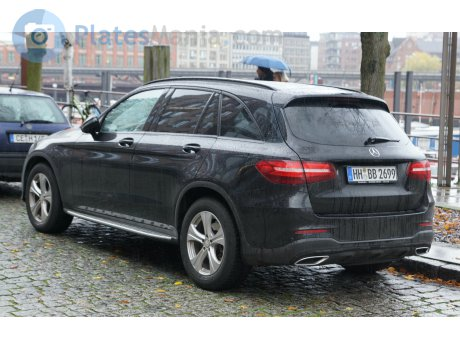License Plates: (356, 164, 393, 178)
